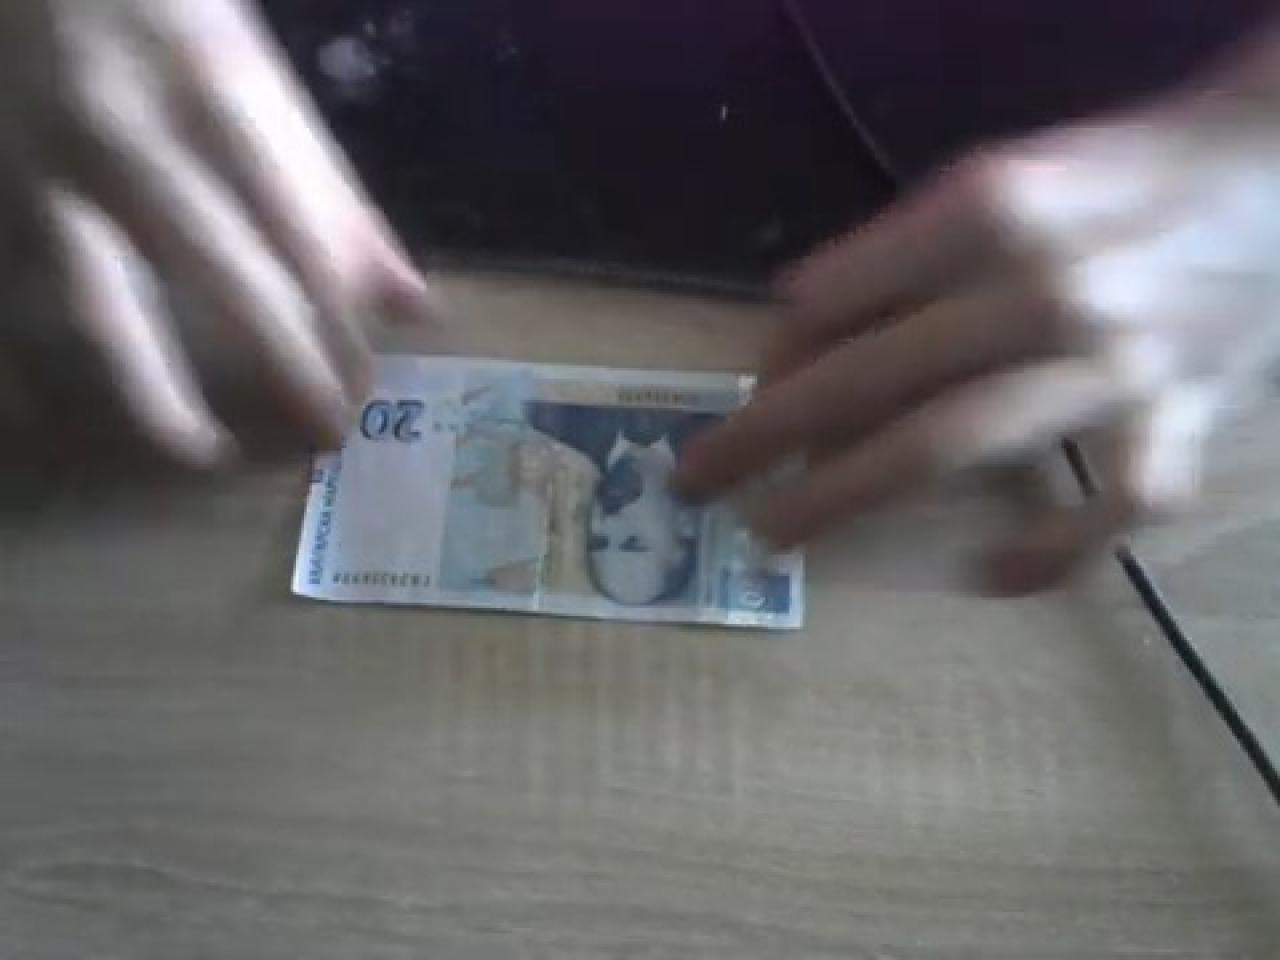20leva: (288, 349, 808, 631)
